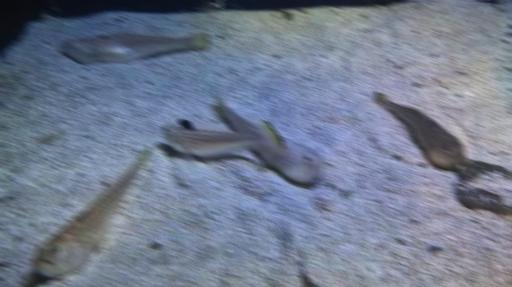Fish: (29, 147, 149, 279), (215, 97, 325, 183), (374, 90, 467, 170), (59, 31, 208, 64), (163, 123, 258, 158), (178, 118, 193, 129)
